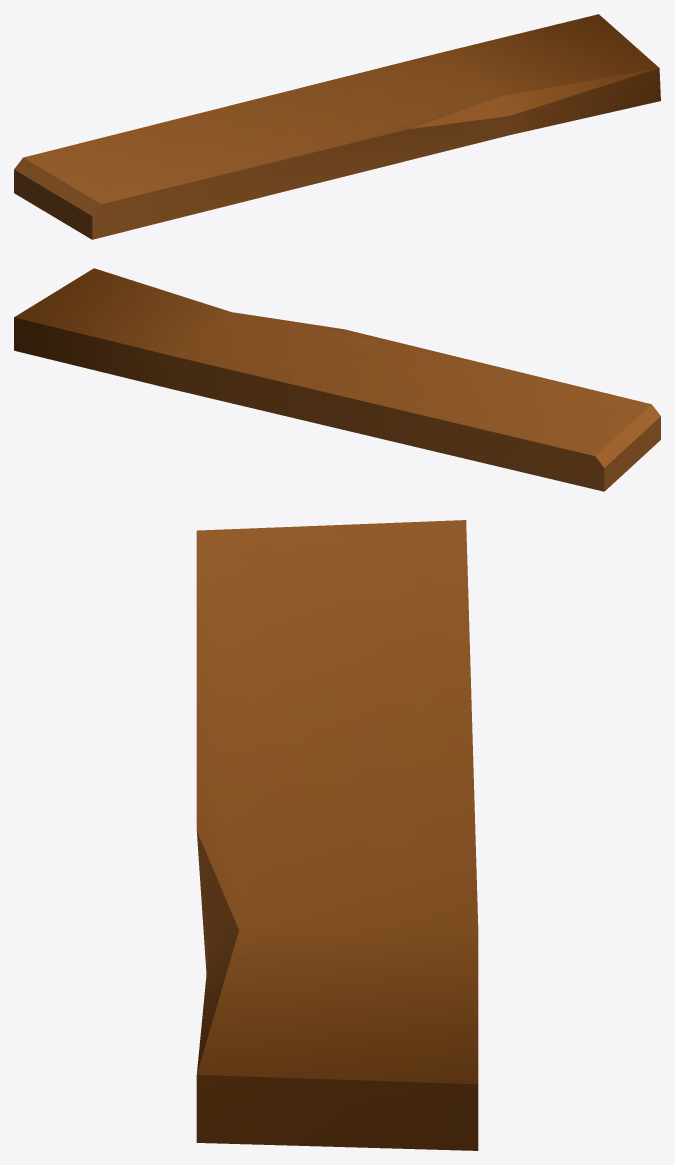
File: Wood_Plank_E.fbx
3 views of the same model, one above another, from view 1: azimuth 30°, elevation 25°; view 2: azimuth 150°, elevation 25°; view 3: azimuth 270°, elevation 25° (orthographic). The views are drawn at different scales.
Visible parts, largest first — view 1: Wood_Plank_E; view 2: Wood_Plank_E; view 3: Wood_Plank_E.
Part boxes in pixels (x1=…): Wood_Plank_E: x1=14, y1=14, x2=660, y2=239; Wood_Plank_E: x1=14, y1=268, x2=660, y2=491; Wood_Plank_E: x1=196, y1=520, x2=478, y2=1150.
Size of the model in its own units: 127 by 6.87 by 26.3.
